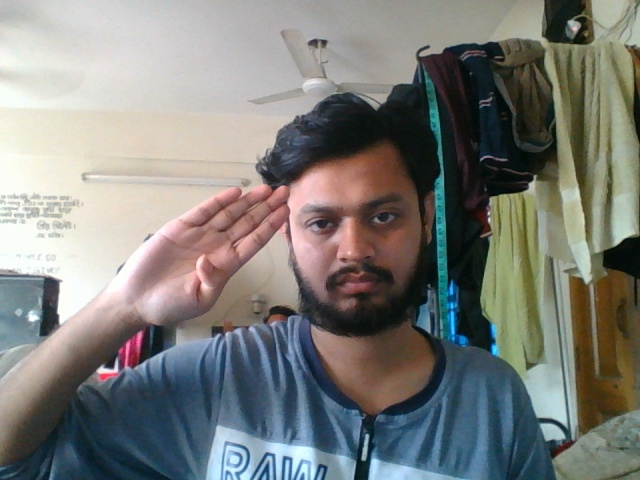salam: (97, 179, 305, 327)
